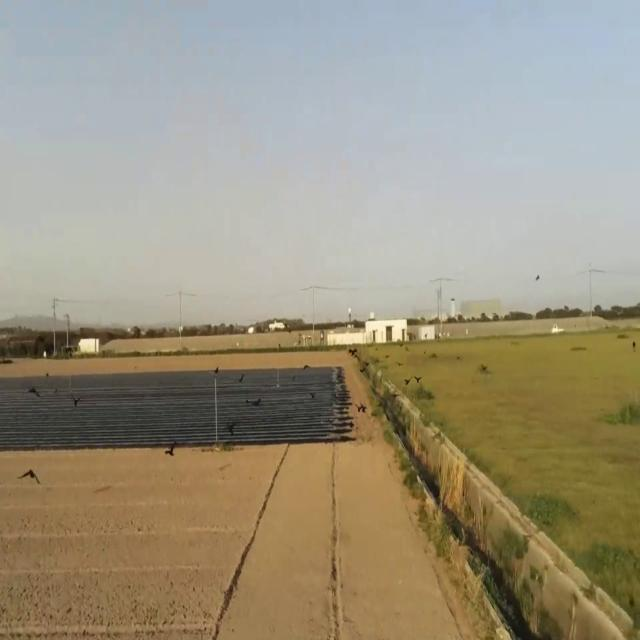bird: (21, 462, 40, 492), (165, 438, 178, 460), (355, 401, 368, 418), (72, 391, 80, 409), (227, 418, 236, 433), (350, 345, 359, 358), (255, 393, 262, 408), (238, 370, 245, 384), (415, 374, 421, 388), (361, 363, 369, 373), (310, 391, 316, 401)
